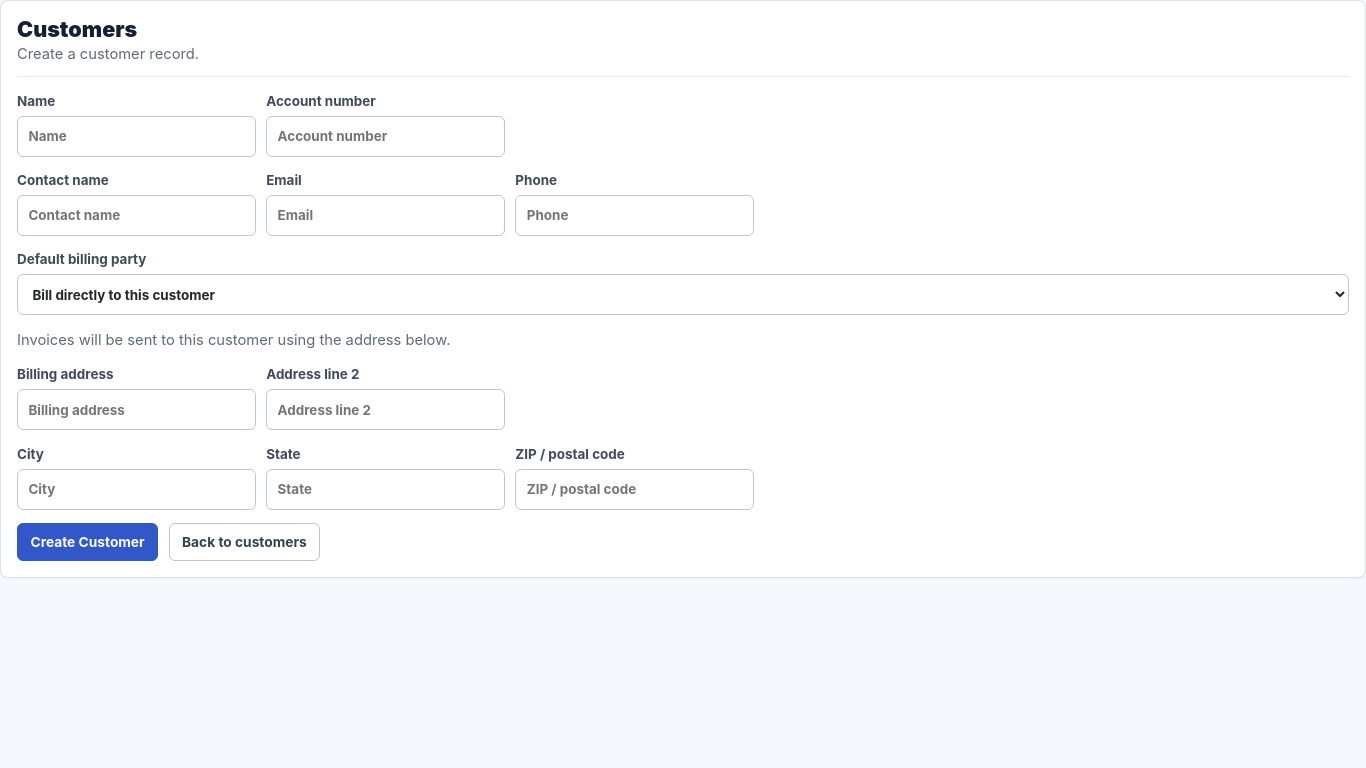
Scenario: MasterData archive confirmations › shows customer create feedback while keeping the list context visible
This screenshot has width=1366, height=768.
Type "Bravo" into the field with placeholder "Name" at [136, 136], box x1=17 y1=116 x2=256 y2=156
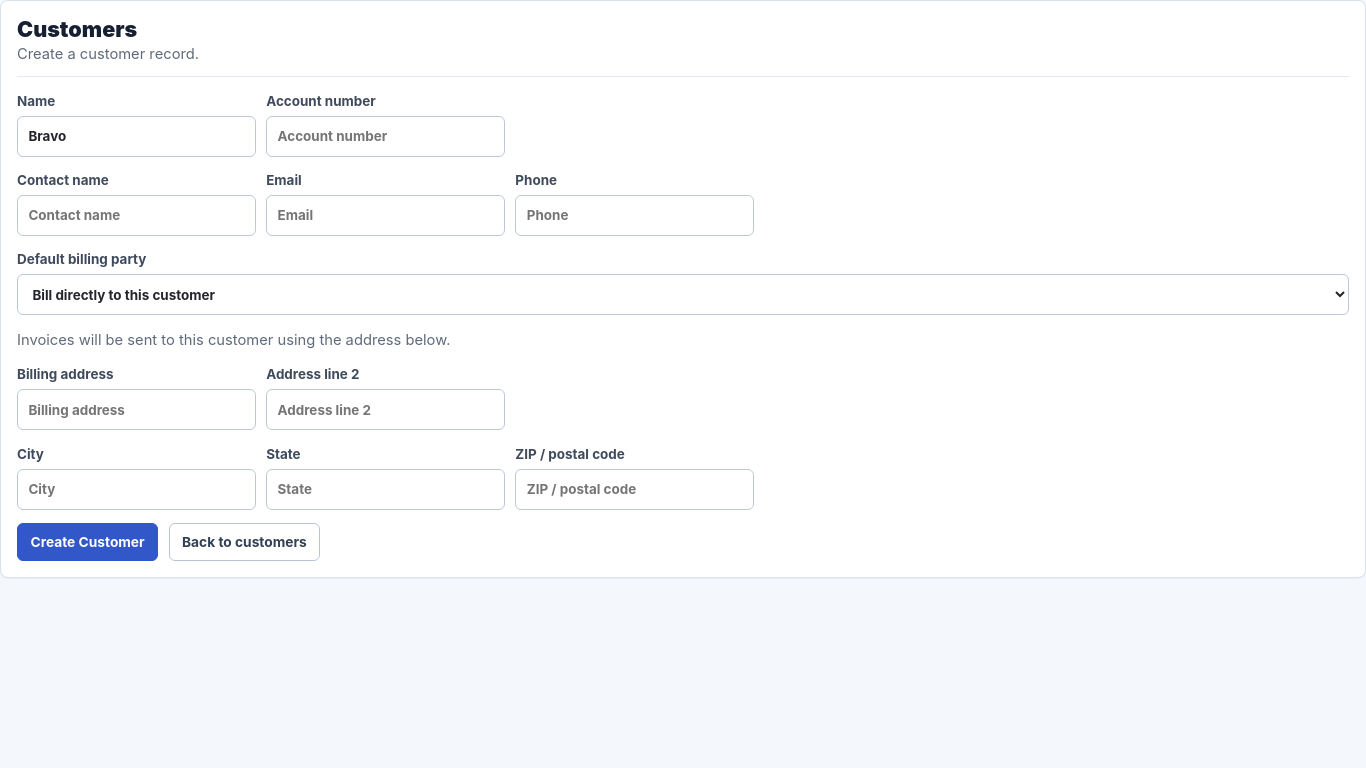
Click the button "Create Customer" at [88, 542], box x1=17 y1=523 x2=158 y2=561
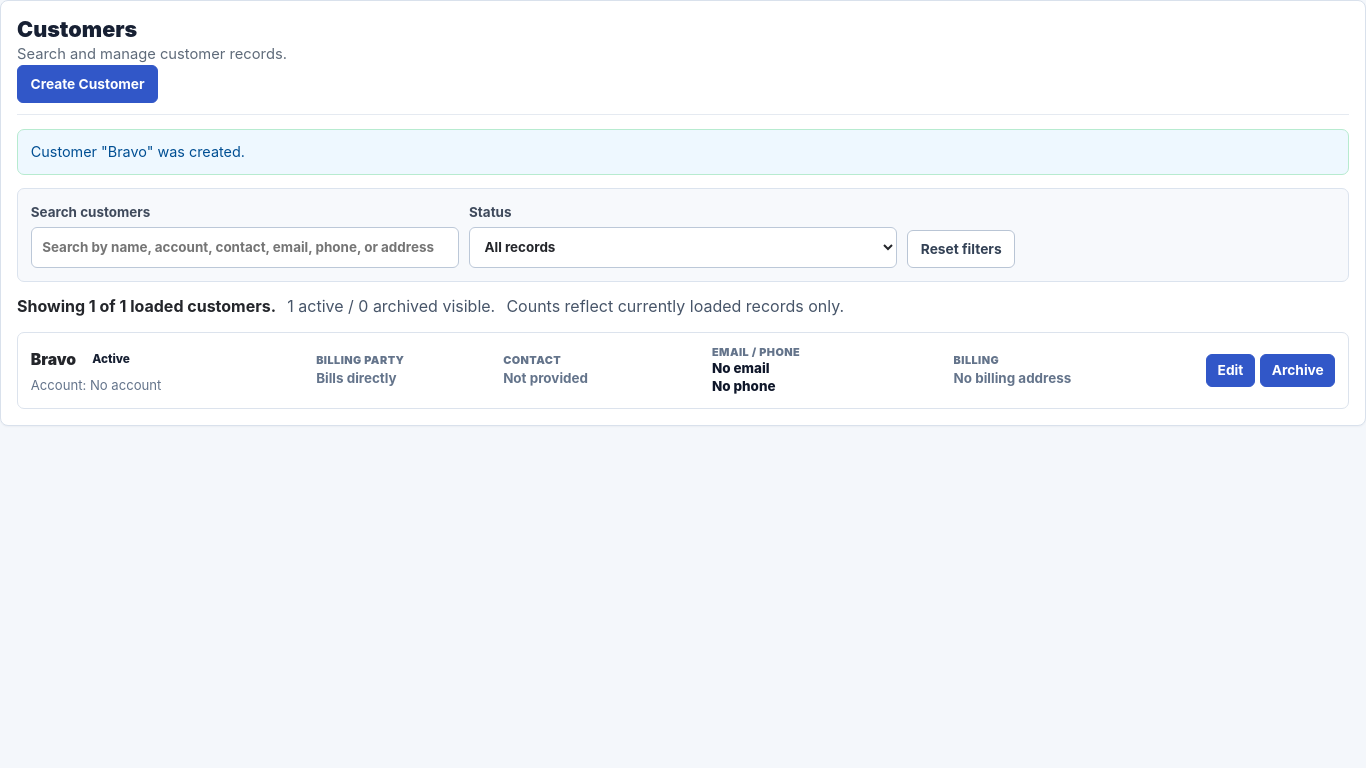
Expected: the text "Customer \"Bravo\" was created." is shown, x1=17 y1=129 x2=1349 y2=175
Expected: the text "Showing 1 of 1 loaded customers." is shown, x1=17 y1=295 x2=276 y2=318
